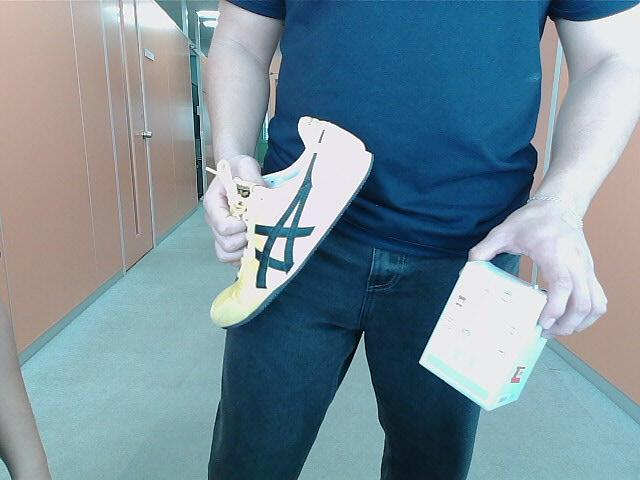Blind_box: (410, 251, 570, 413)
Shoes: (203, 112, 381, 334)
